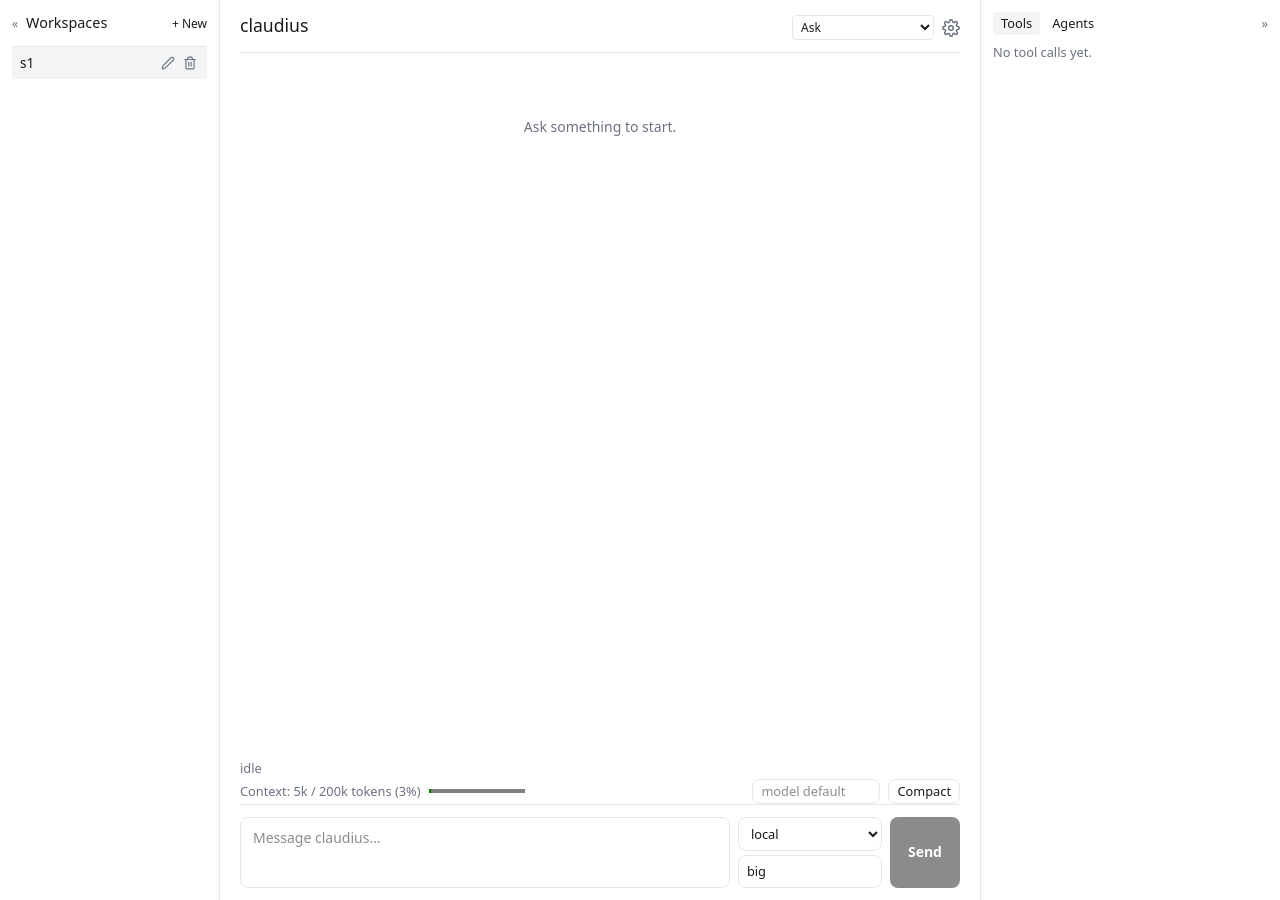
Test: App › switching to a model with a smaller window asks to compact first
The image size is (1280, 900).
Replace the text in the field named "Model" with "small": (810, 871) top-left (738, 855), bottom-right (882, 888)
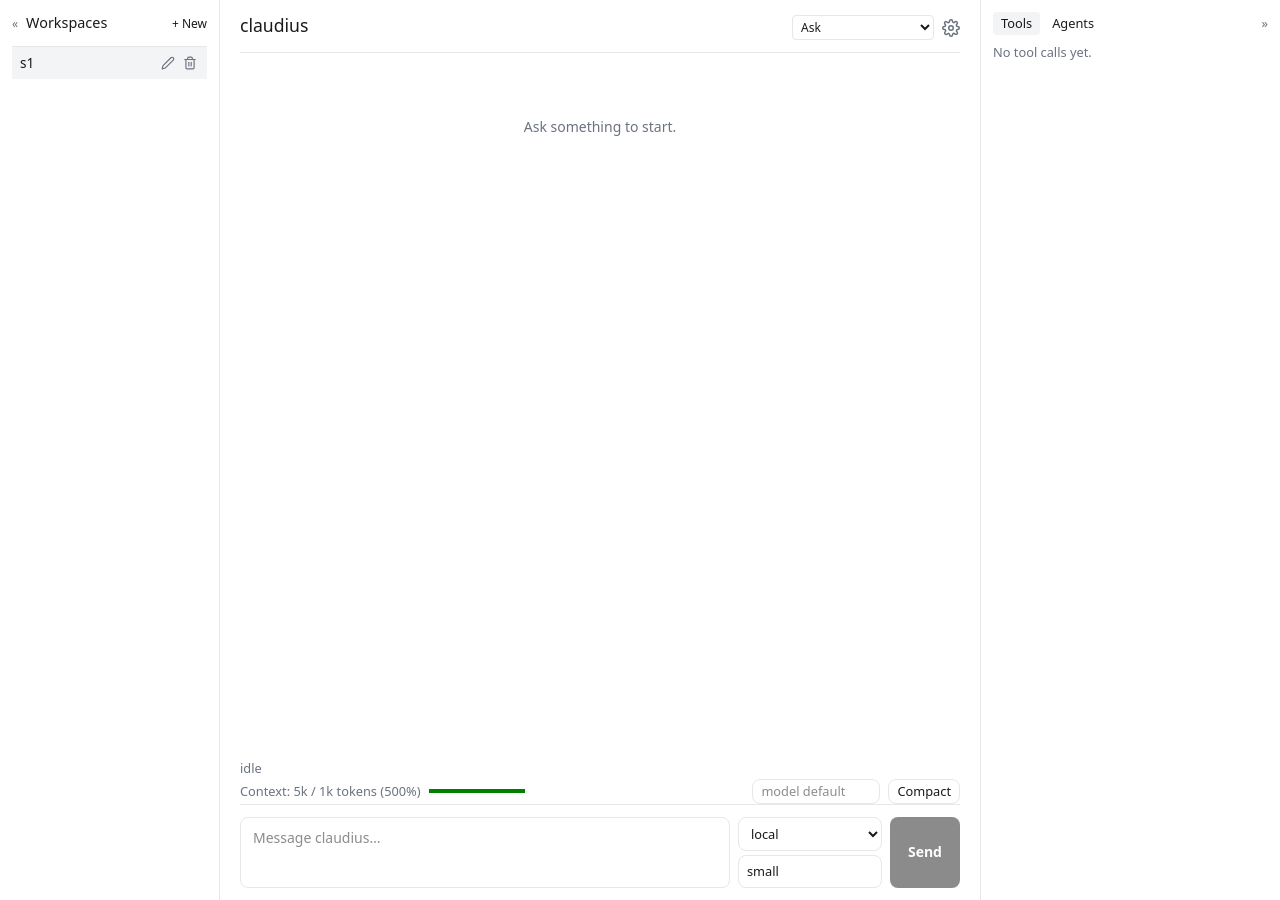
In the text box with placeholder "Message claudius…": (485, 852) top-left (240, 817), bottom-right (730, 888), type "hello"
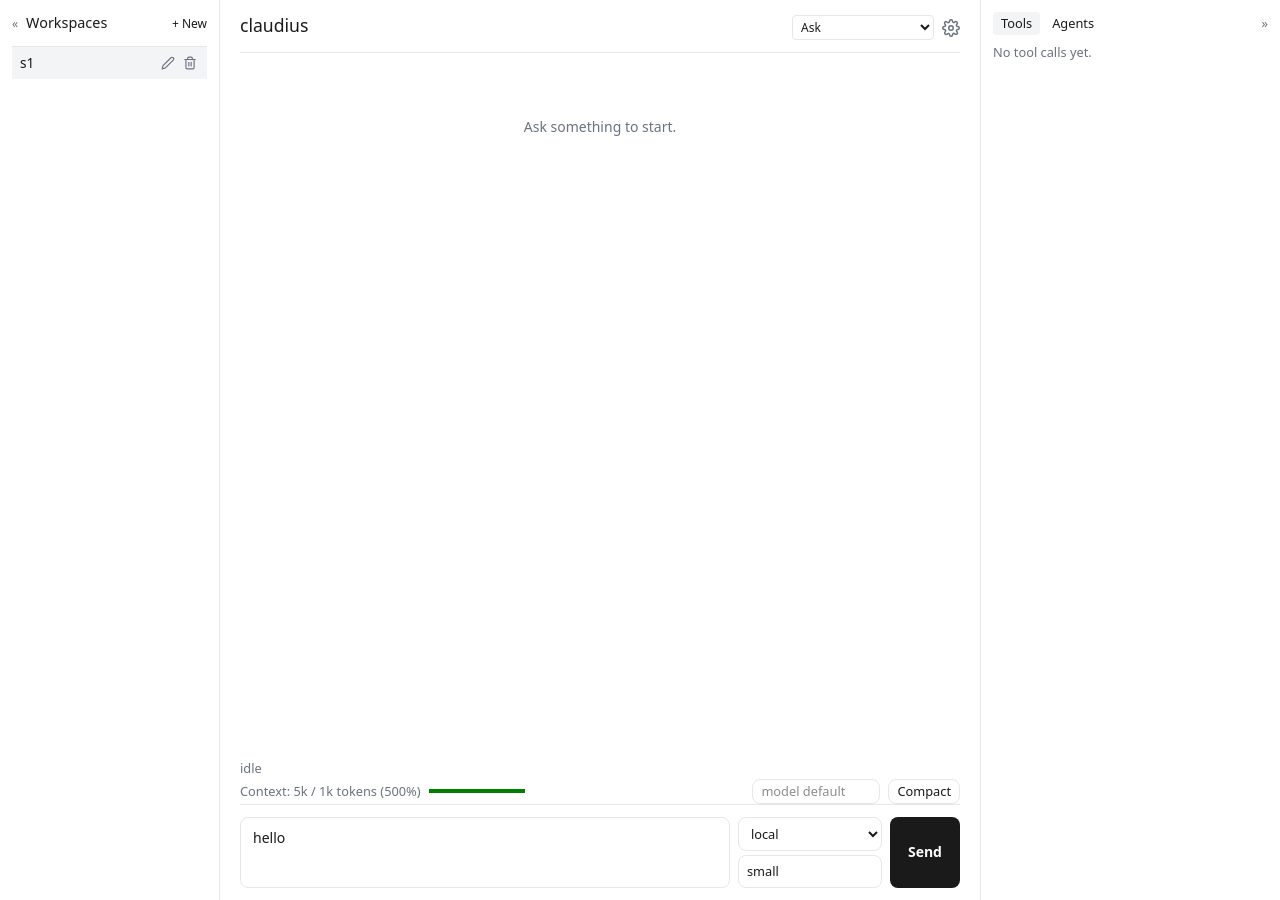
Press Enter in the text box named "Message claudius", box top-left (240, 817), bottom-right (730, 888)
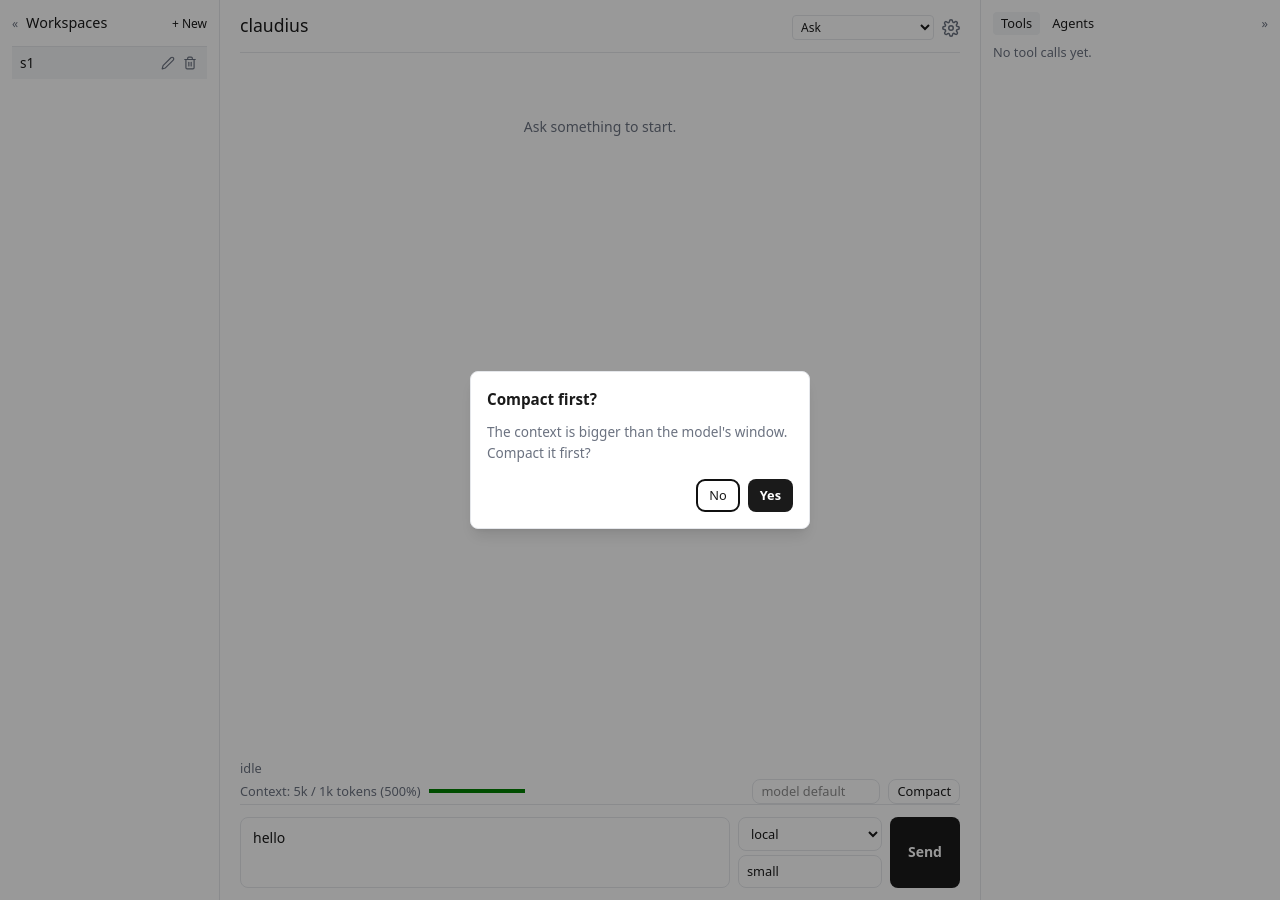
Result: the text "The context is bigger than the model's window. Compact it first?" is shown at top-left (487, 422), bottom-right (793, 463)
